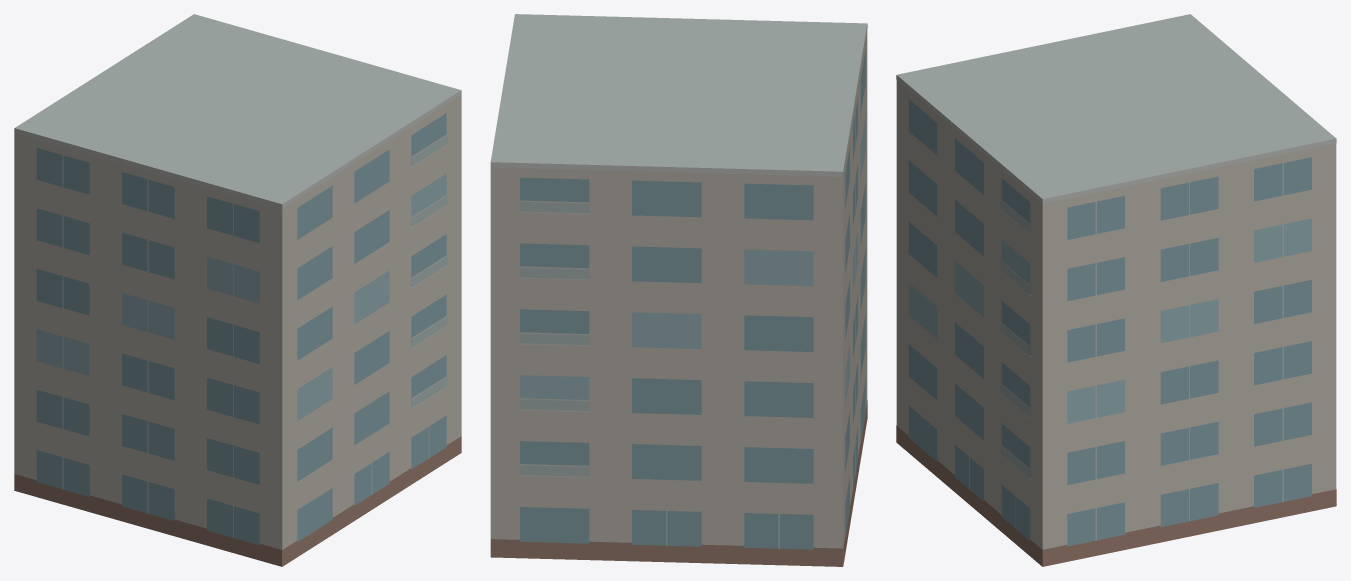
File: survey-upis-32736054.glb
3 views of the same model, side by side, from view 1: azimuth 30°, elevation 25°; view 2: azimuth 150°, elevation 25°; view 3: azimuth 270°, elevation 25° (orthographic). The views are drawn at different scales.
Visible parts, largest first — view 1: survey-upis-32736054.tmp; view 2: survey-upis-32736054.tmp; view 3: survey-upis-32736054.tmp.
Part boxes in pixels (x1,y1,x2,y2): survey-upis-32736054.tmp: (14,14,461,566); survey-upis-32736054.tmp: (490,14,867,566); survey-upis-32736054.tmp: (896,14,1336,566).
Bounding box in the file's own units: 20.41 × 18.9 × 20.5.
